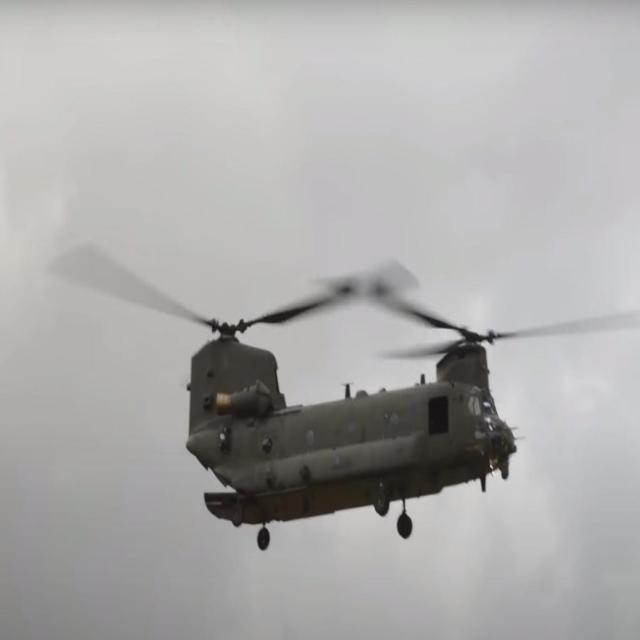Helicopter: (169, 284, 524, 561)
